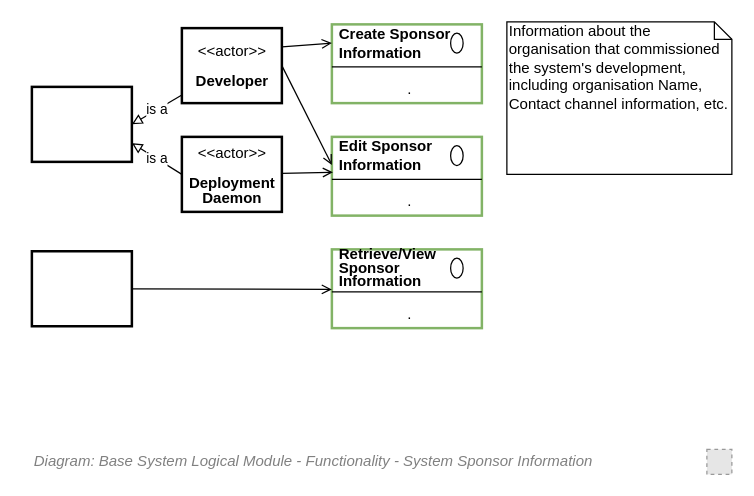
Some shapes in this 754 by 496 pixel diagram are drawn without their labels. Grey dashed boxes stand in for pictures. Here are the shapes that lost their labels. From the top down, the centre of each, then its label:
pixel 81 123: <<actor>> UnAudited User
pixel 81 288: <<actor>> UnAuthenticated User
